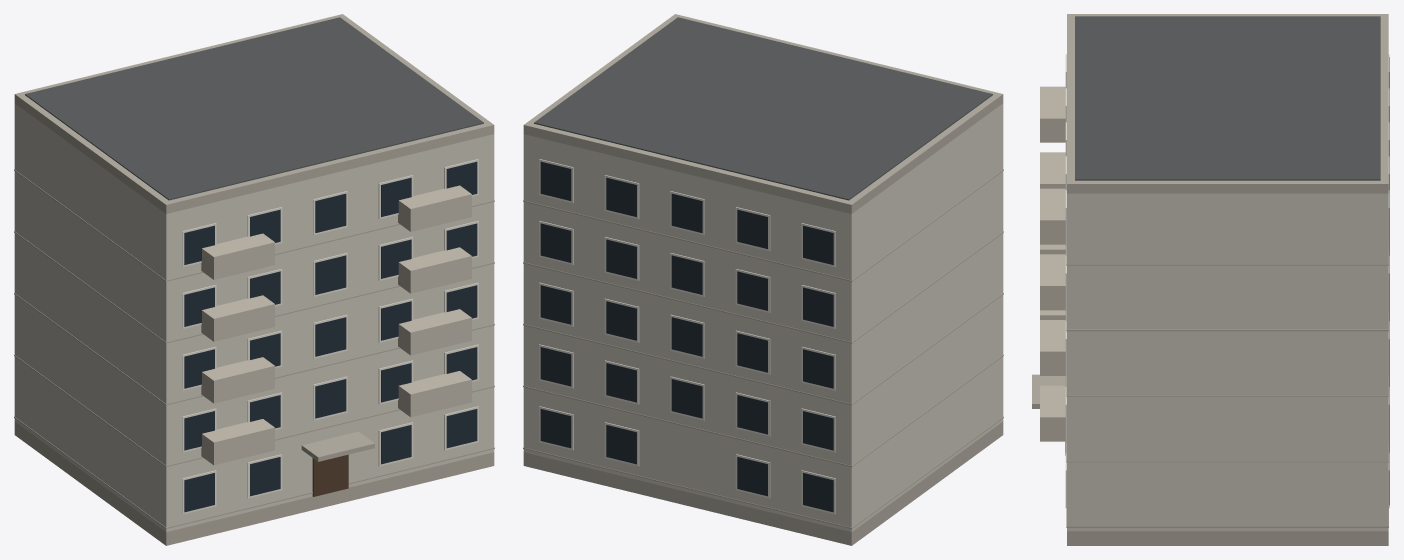
The model's file is khrush_grey.glb.
3 views of the same model, side by side, from view 1: azimuth 30°, elevation 25°; view 2: azimuth 150°, elevation 25°; view 3: azimuth 270°, elevation 25° (orthographic). The views are drawn at different scales.
Parts seen in each view (by area): view 1: khrush_grey; view 2: khrush_grey; view 3: khrush_grey.
Boxes of the visible parts, x1=… form: khrush_grey: x1=14, y1=14, x2=494, y2=545; khrush_grey: x1=523, y1=14, x2=1003, y2=545; khrush_grey: x1=1032, y1=14, x2=1389, y2=545.
Bounding box in the file's own units: 15.04 × 14.95 × 13.35.
